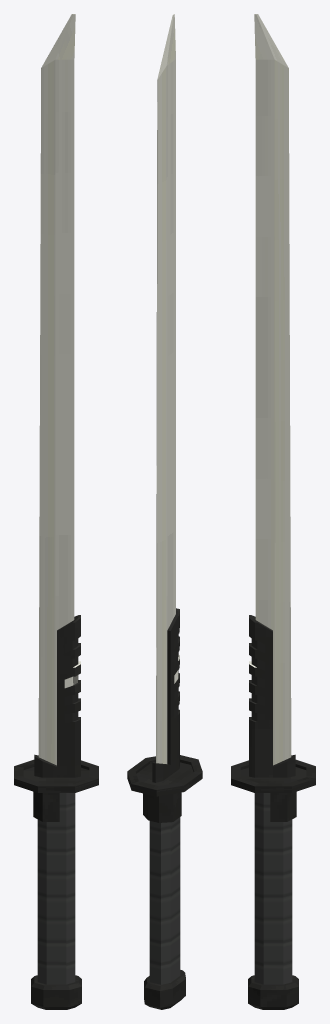
Rendered from Katana 2Done.fbx.
The picture shows the model from 3 angles, left to right: view 1: azimuth 90°, elevation 25°; view 2: azimuth 150°, elevation 25°; view 3: azimuth 270°, elevation 25°; orthographic projection.
Visible parts, largest first — view 1: Blade, Cube.002, Cube, Guard, Cube.003, Cube.001; view 2: Blade, Cube.002, Cube, Guard, Cube.003, Cube.001; view 3: Blade, Cube.002, Cube, Guard, Cube.003, Cube.001.
Boxes of the visible parts, x1,y1,x2,y2 form: Blade: (38, 14, 75, 765); Cube.002: (37, 793, 75, 984); Cube: (34, 615, 80, 777); Guard: (14, 759, 98, 792); Cube.003: (31, 975, 81, 1009); Cube.001: (33, 791, 59, 821); Blade: (156, 14, 175, 763); Cube.002: (149, 817, 180, 984); Cube: (152, 608, 179, 782); Guard: (127, 755, 202, 796); Cube.003: (144, 970, 185, 1009); Cube.001: (143, 792, 181, 822); Blade: (254, 14, 291, 765); Cube.002: (254, 793, 292, 984); Cube: (249, 615, 295, 777); Guard: (231, 759, 315, 792); Cube.003: (248, 975, 298, 1009); Cube.001: (270, 791, 296, 821).
Bounding box in the file's own units: 196 × 3205 × 248.
